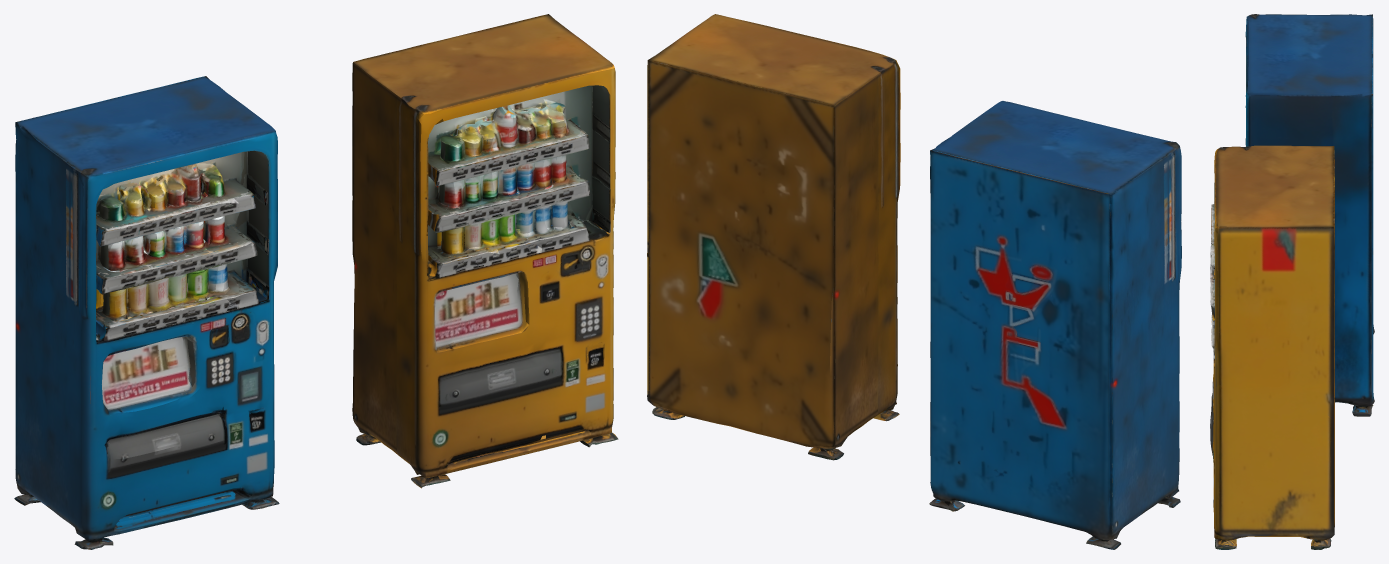
File: Meshy_AI_Vibrant_Vending_Machi_0102104958_texture.fbx
3 views of the same model, side by side, from view 1: azimuth 30°, elevation 25°; view 2: azimuth 150°, elevation 25°; view 3: azimuth 270°, elevation 25° (orthographic). The views are drawn at different scales.
Visible parts, largest first — view 1: Mesh0; view 2: Mesh0; view 3: Mesh0.
Boxes of the visible parts, <box> form: Mesh0: <box>14,14,618,549</box>; Mesh0: <box>647,14,1181,549</box>; Mesh0: <box>1210,14,1374,549</box>.
Bounding box in the file's own units: 191 × 133 × 61.55.
Materials: 1 (1 with a texture image).
